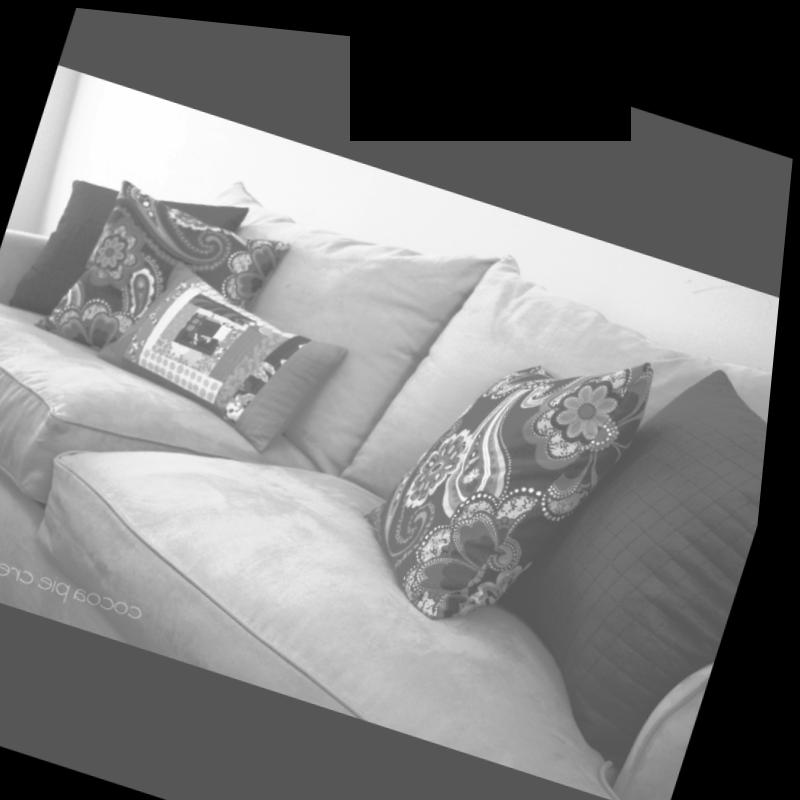pillow: (476, 307, 780, 771), (356, 282, 664, 649), (92, 246, 371, 470), (39, 161, 296, 392), (7, 141, 257, 370)
